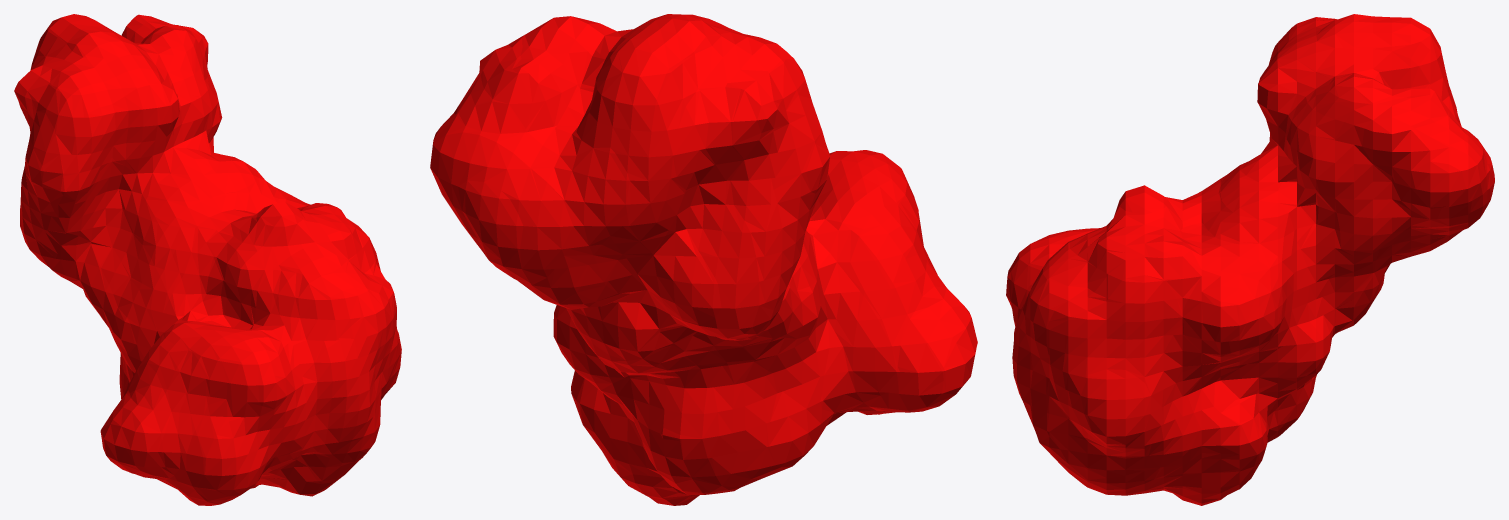
File: yahA_coarse.dae
The picture shows the model from 3 angles, left to right: view 1: azimuth 30°, elevation 25°; view 2: azimuth 150°, elevation 25°; view 3: azimuth 270°, elevation 25°; orthographic projection. The views are drawn at different scales.
Visible parts, largest first — view 1: yahA; view 2: yahA; view 3: yahA.
Part boxes in pixels (<box>): yahA: <box>14,14,401,505</box>; yahA: <box>430,14,977,505</box>; yahA: <box>1006,14,1494,505</box>.
Size of the model in its own units: 51.24 by 72.03 by 71.31.
